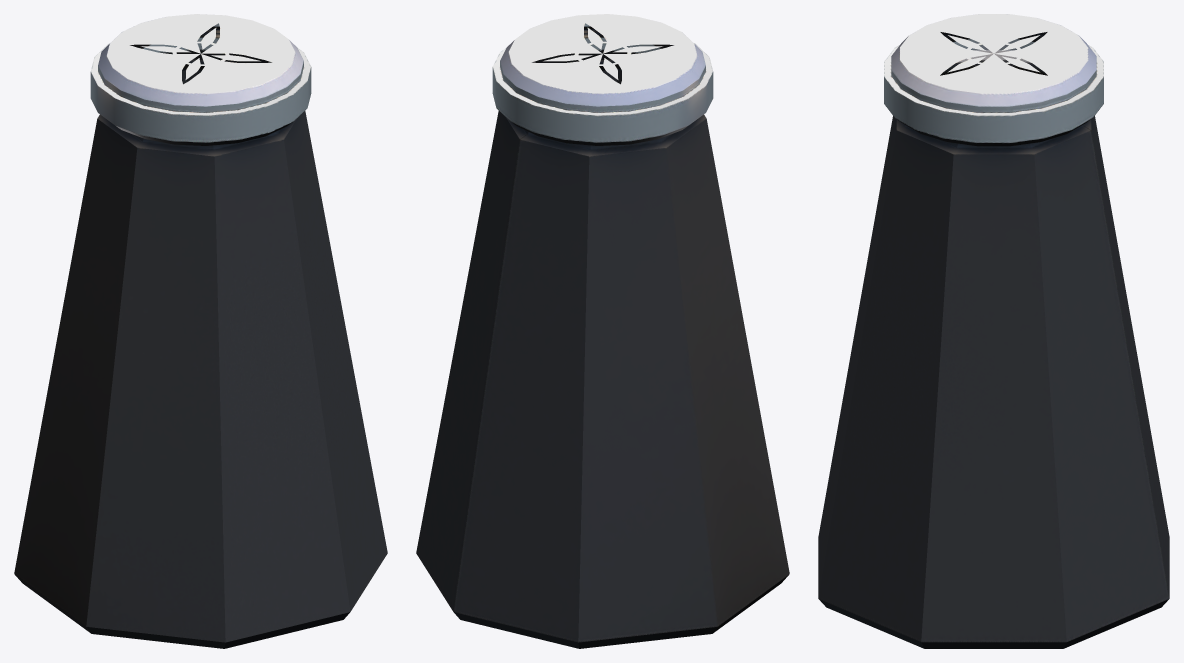
Rendered from pepper.obj.
3 renders of one model, left to right at view 1: azimuth 30°, elevation 25°; view 2: azimuth 150°, elevation 25°; view 3: azimuth 270°, elevation 25°, orthographic.
Visible parts, largest first — view 1: pepper; view 2: pepper; view 3: pepper.
Part boxes in pixels (x1,y1,x2,y2): pepper: (14,14,387,648); pepper: (416,14,789,648); pepper: (818,14,1169,648).
Size of the model in its own units: 0.0539 by 0.0887 by 0.0539.
